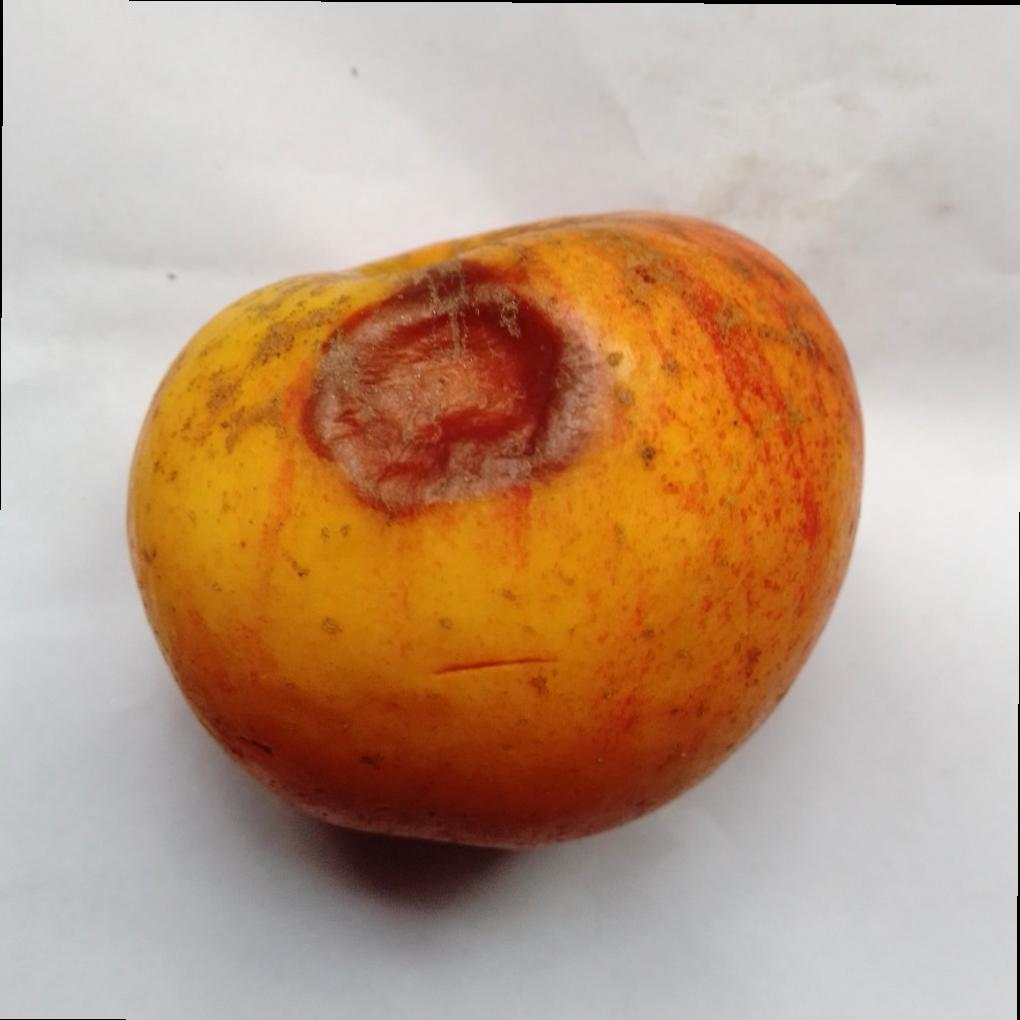FreshOrange: (157, 216, 860, 844)
